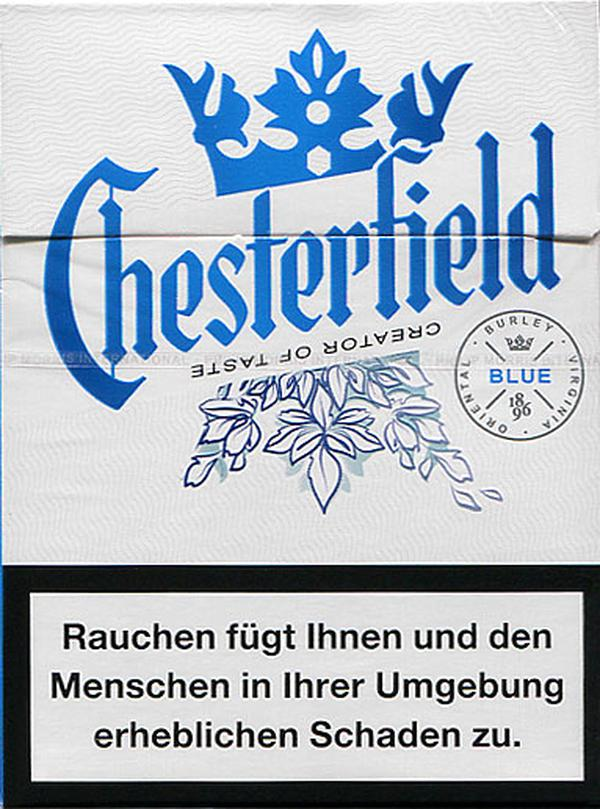chesterfield_blue: (1, 8, 598, 809)
